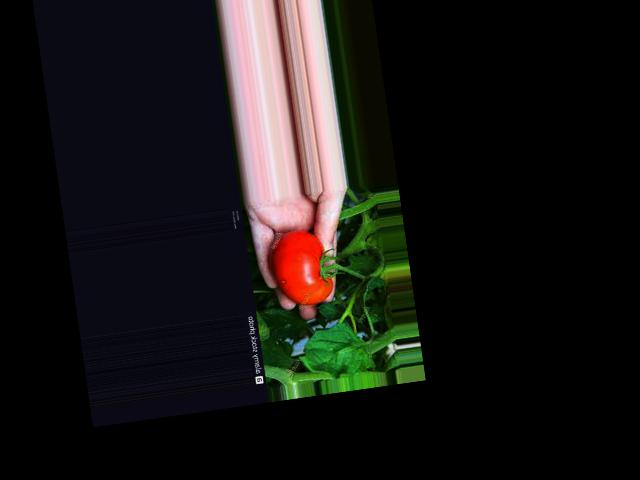tomato: (267, 225, 335, 309)
